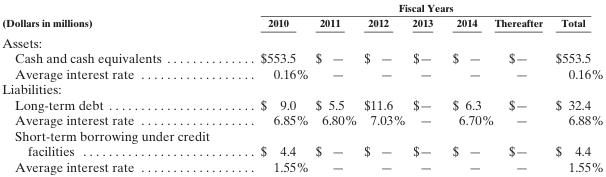table: (1, 0, 603, 174)
table column: (1, 0, 234, 174), (234, 0, 311, 174), (493, 0, 548, 174), (548, 0, 603, 174), (441, 0, 493, 174), (359, 0, 408, 174), (311, 0, 359, 174), (408, 0, 441, 174)
table column header: (1, 0, 603, 31)
table projected row header: (1, 31, 603, 50), (1, 81, 603, 96)
table row: (1, 127, 603, 158), (1, 31, 603, 50), (1, 14, 603, 31), (1, 65, 603, 81), (1, 96, 603, 112), (1, 158, 603, 174), (1, 50, 603, 65), (1, 81, 603, 96), (1, 112, 603, 127), (1, 0, 603, 14)
table spanning cell: (1, 0, 234, 31), (234, 0, 603, 14)
